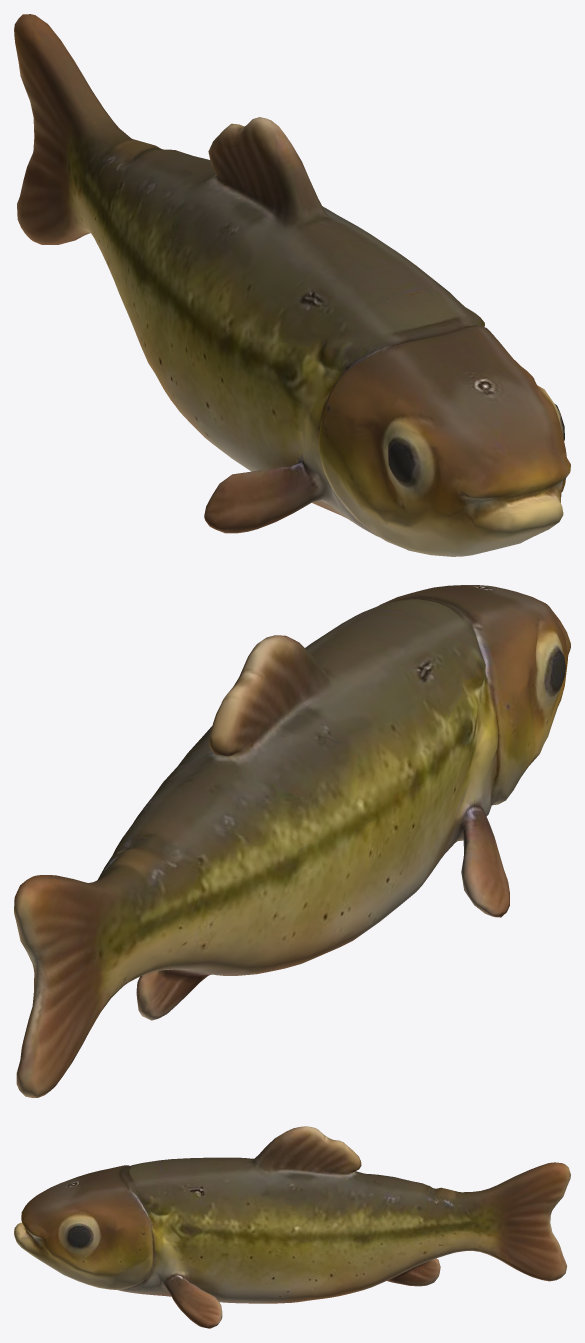
File: beodeulchi.glb
The picture shows the model from 3 angles, top to bottom: view 1: azimuth 30°, elevation 25°; view 2: azimuth 150°, elevation 25°; view 3: azimuth 270°, elevation 25°; orthographic projection. The views are drawn at different scales.
Parts seen in each view (by area): view 1: tripo_node_8c425405-cf3d-40c3-bb9a-03a4c7c96b8a; view 2: tripo_node_8c425405-cf3d-40c3-bb9a-03a4c7c96b8a; view 3: tripo_node_8c425405-cf3d-40c3-bb9a-03a4c7c96b8a.
Boxes of the visible parts, x1,y1,x2,y2 form: tripo_node_8c425405-cf3d-40c3-bb9a-03a4c7c96b8a: (14, 14, 570, 556); tripo_node_8c425405-cf3d-40c3-bb9a-03a4c7c96b8a: (14, 585, 570, 1097); tripo_node_8c425405-cf3d-40c3-bb9a-03a4c7c96b8a: (14, 1126, 570, 1328).
Bounding box in the file's own units: 0.329 × 0.3317 × 1.
1 material, 1 textured.
